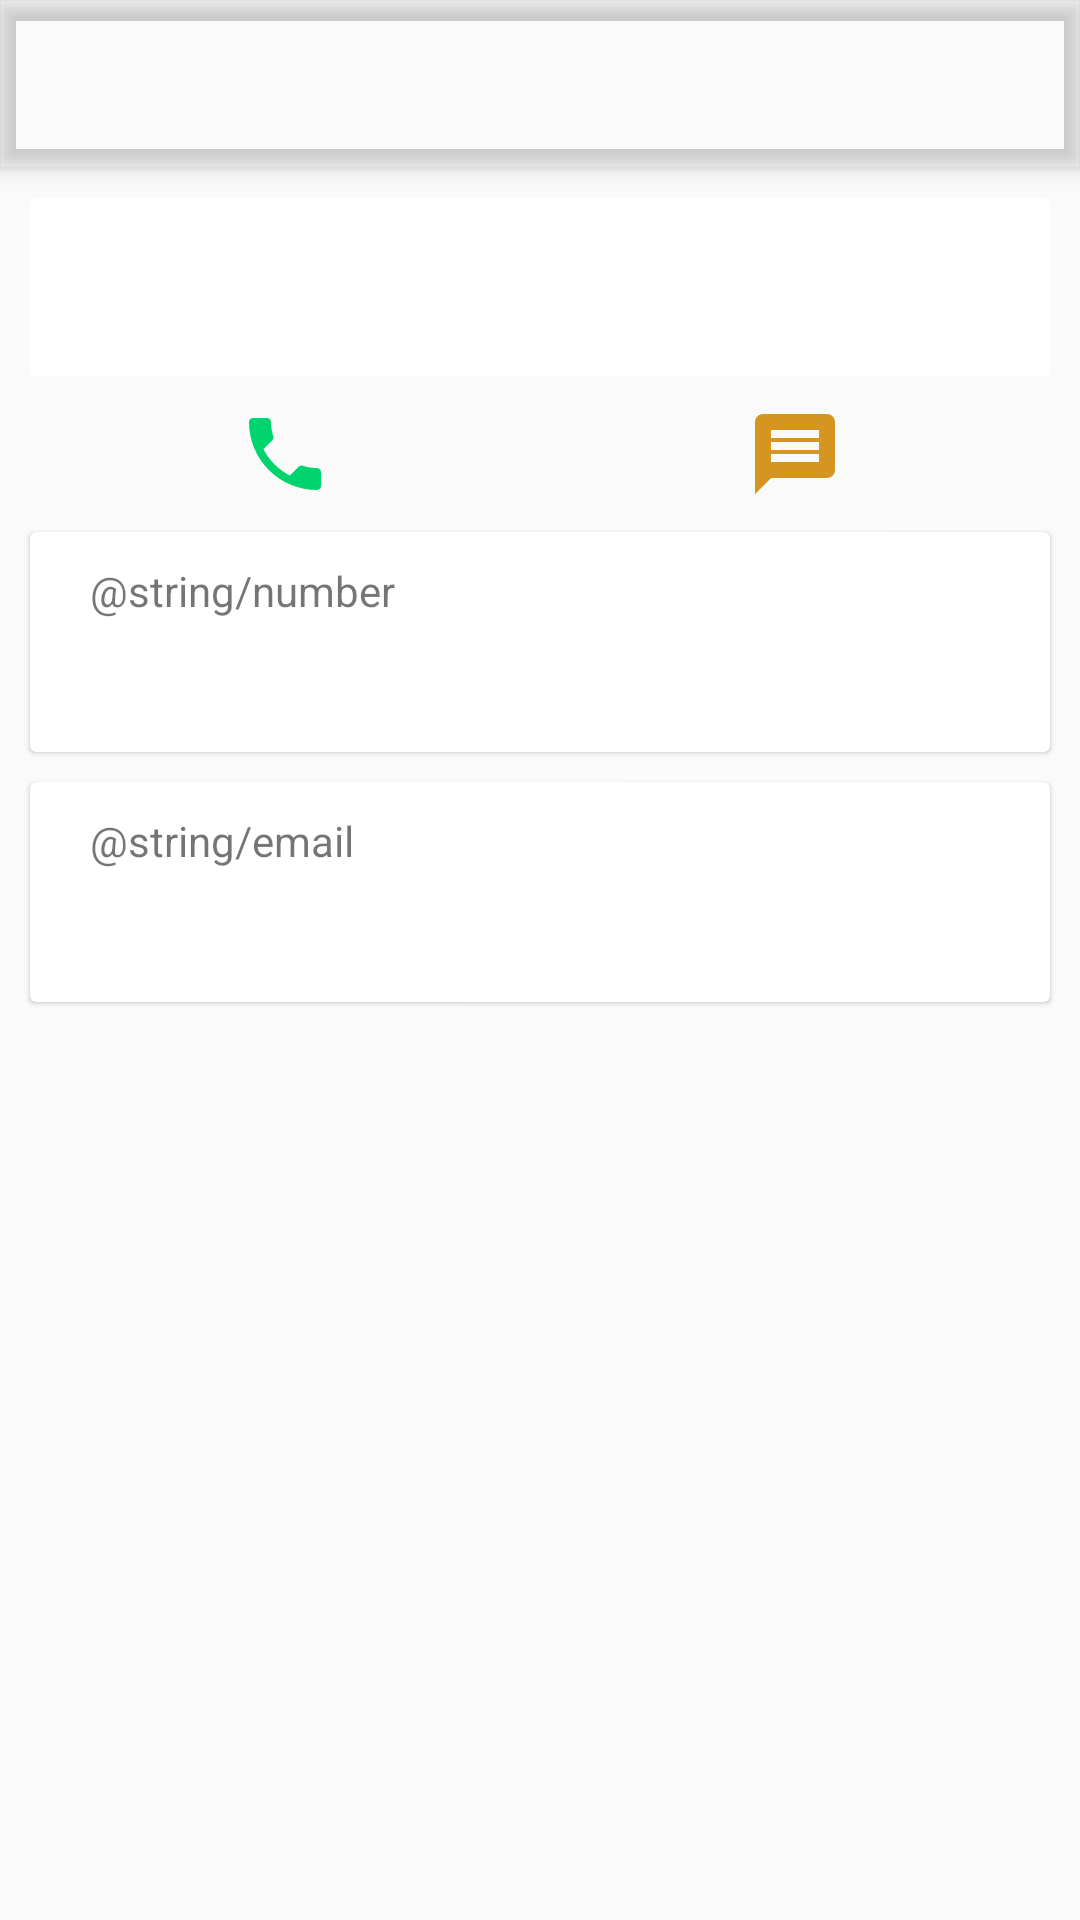

Named icons in this screenshot (1080w x 1920h) and their centers, point (x, y):
call: point (285, 454)
message: point (795, 454)
